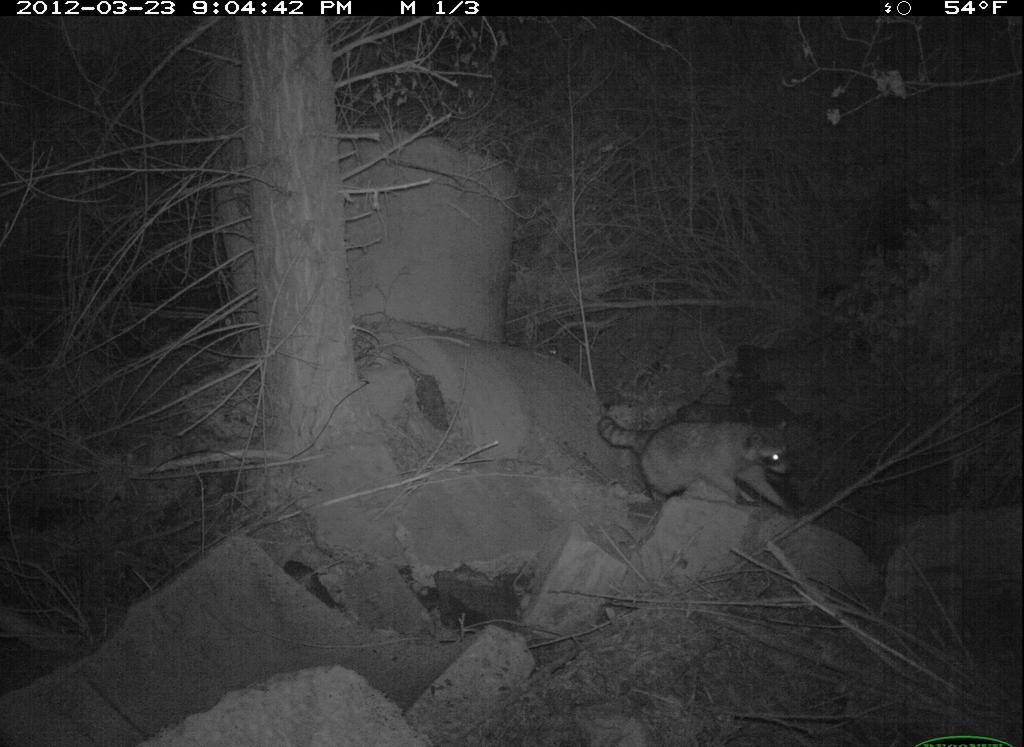raccoon: (593, 404, 809, 521)
